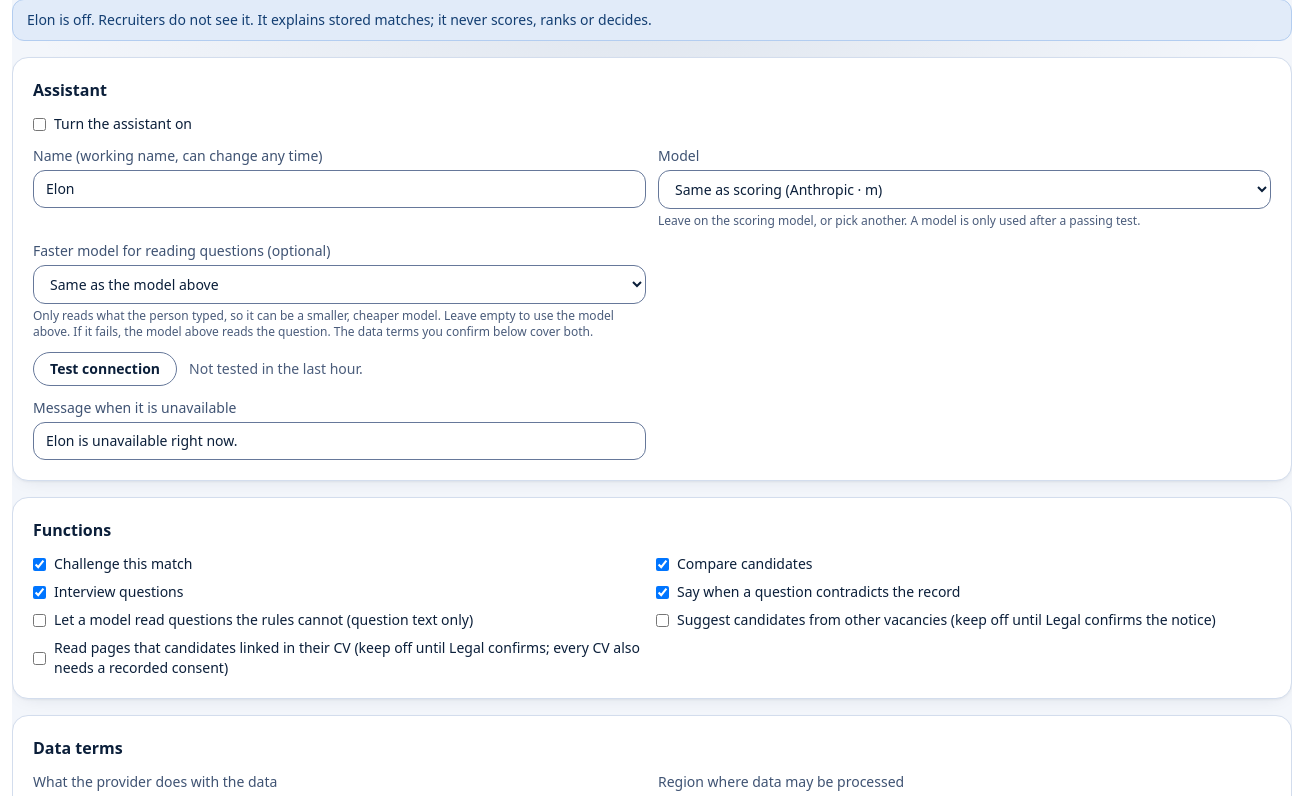
Assistant settings (admin) › shows the state, usage and a test button, and saves what the administrator chose
Expected: the text "Elon is off" is shown, [27, 10, 652, 29]
Click the button "Test connection" at (105, 369), box [33, 352, 177, 386]
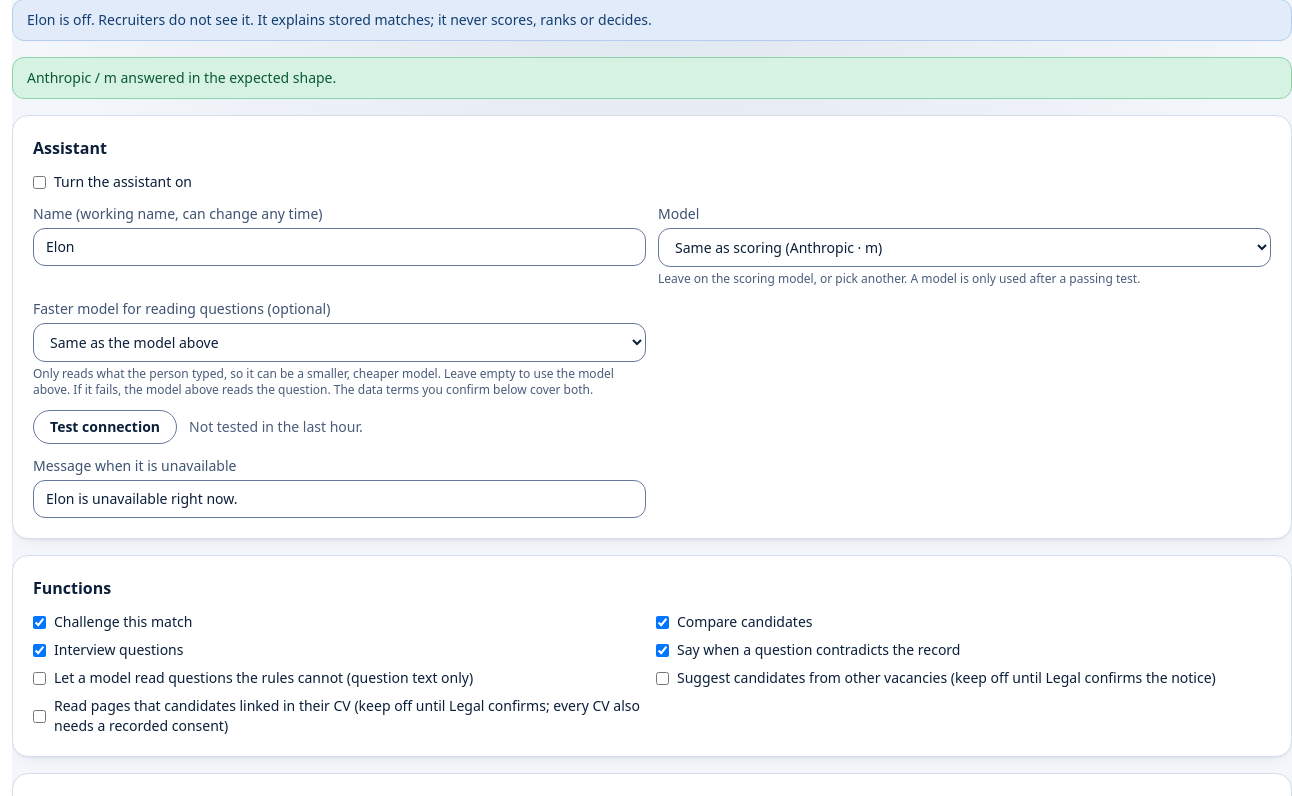
Now the text "Anthropic / m answered in the expected shape." is shown, box [12, 57, 1291, 99]
Click the checkbox labelled "Turn the assistant on" at (40, 182), box [33, 176, 46, 188]
(page scrolled)
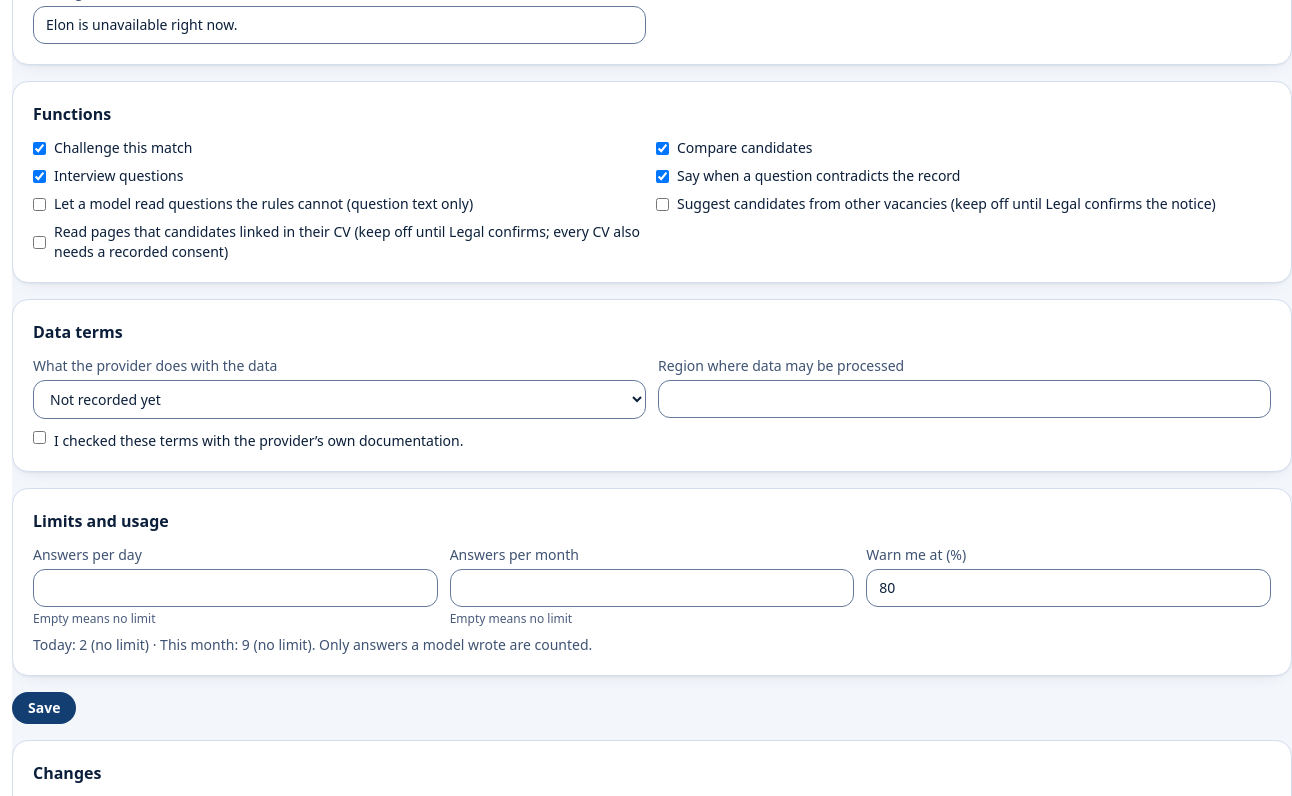
Select "Provider keeps nothing and does not train on it" in the dropdown labelled "What the provider does with the data" at (340, 400), box [33, 380, 646, 419]
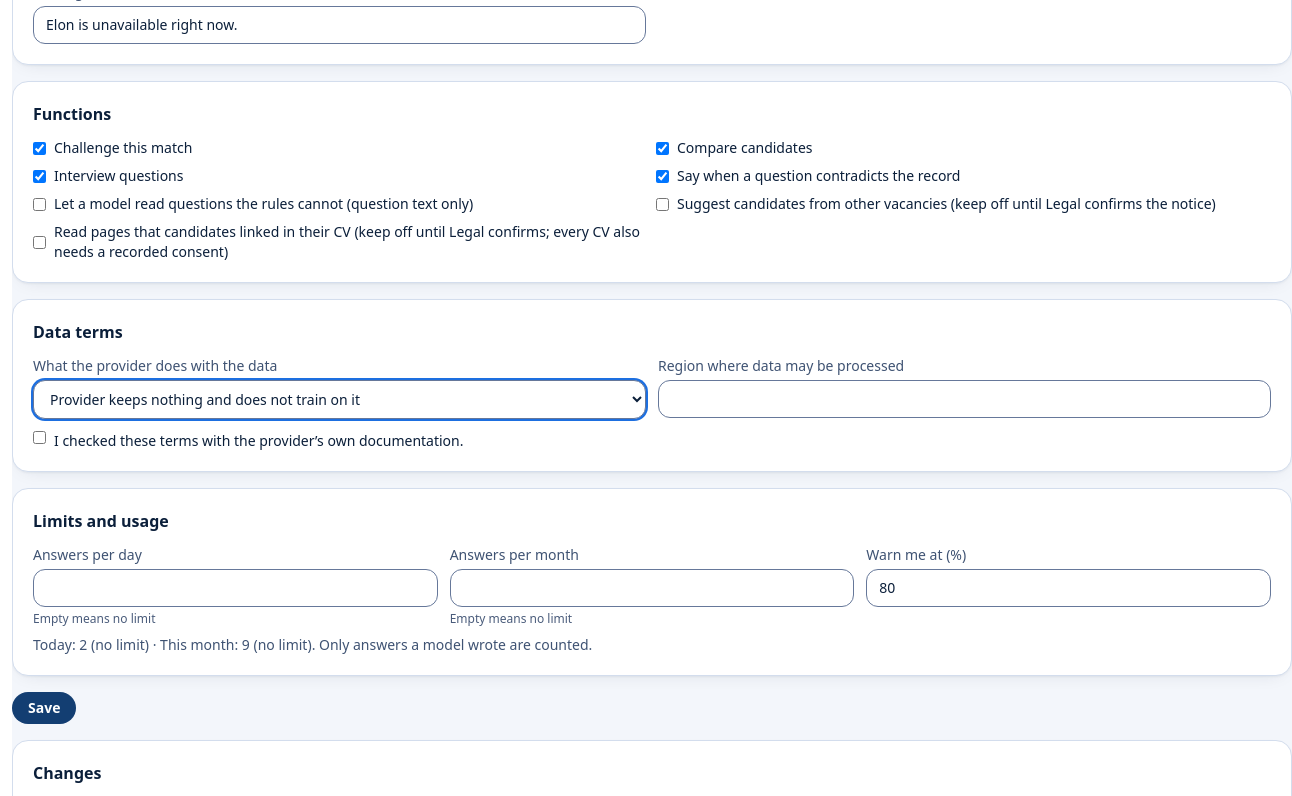
Click the checkbox labelled "I checked these terms with the provider’s own documentation." at (40, 438), box [33, 431, 46, 444]
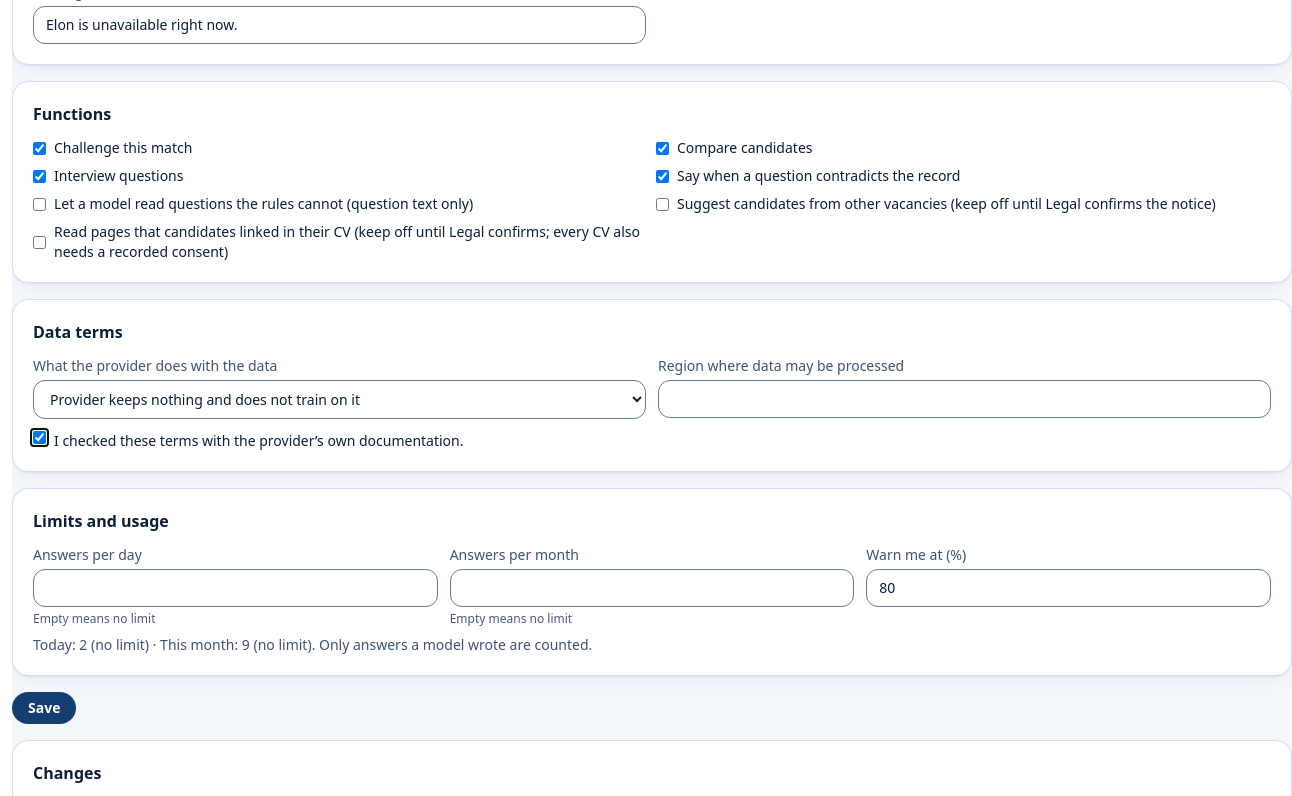
Click the button "Save" at (44, 708), box [12, 692, 76, 724]
(page scrolled)
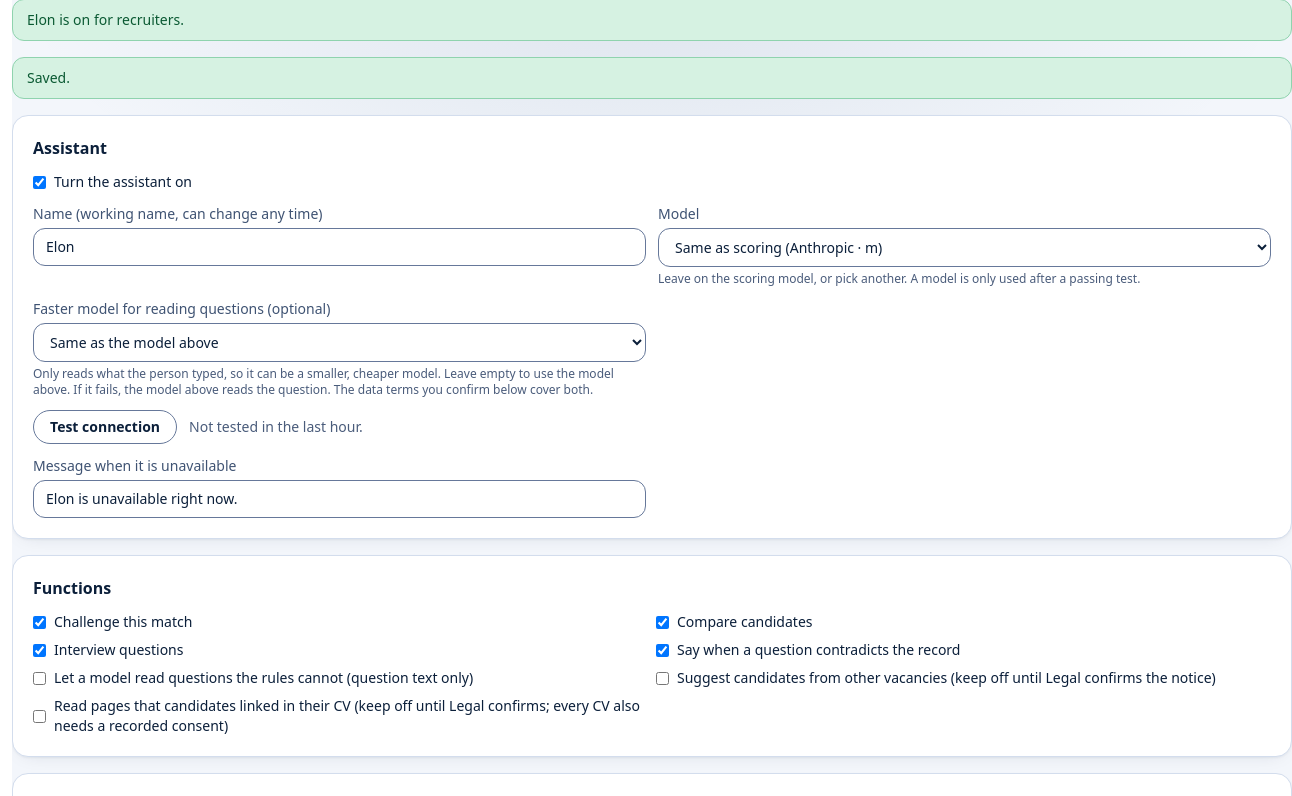
Now the text "Saved." is shown, box [12, 57, 1291, 99]
